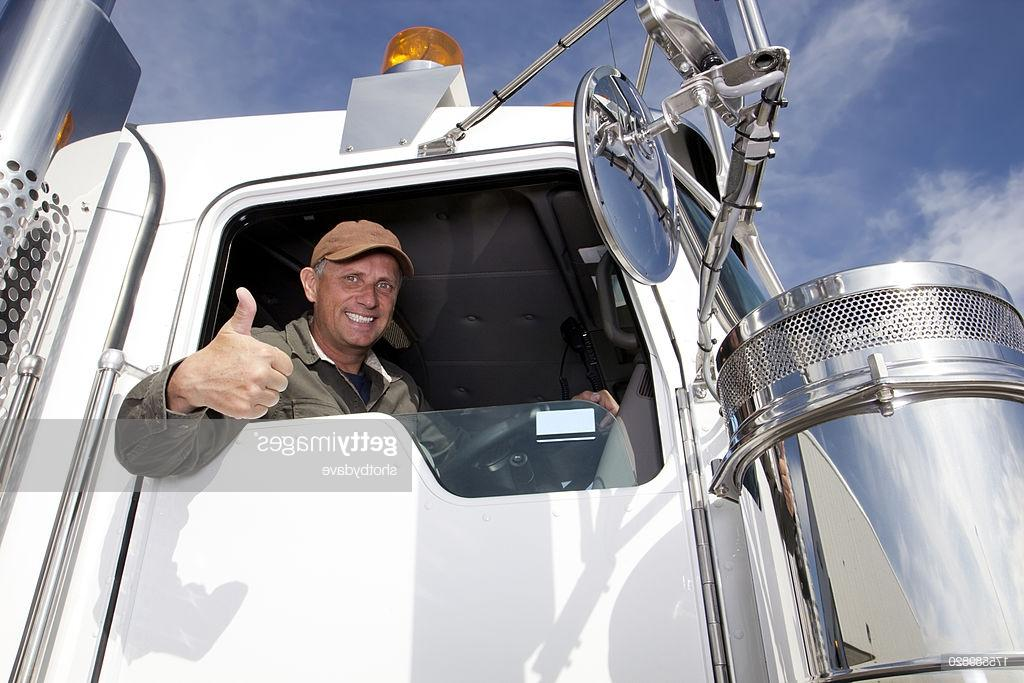thumbsup: (225, 286, 294, 421)
